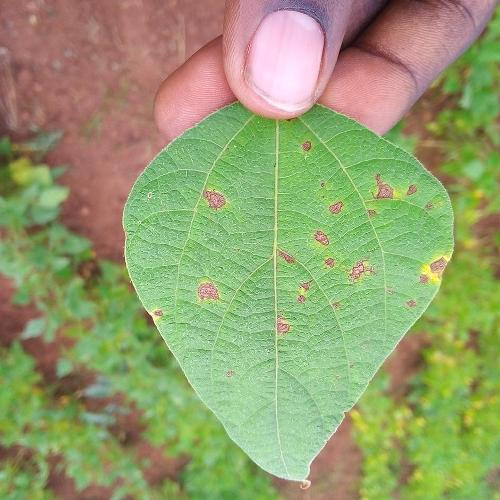hawar: (135, 143, 434, 336)
